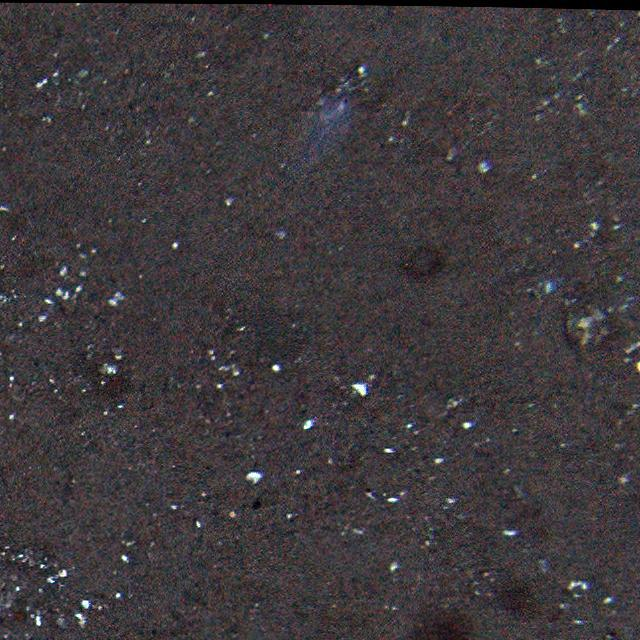flatfish: (270, 73, 356, 184)
